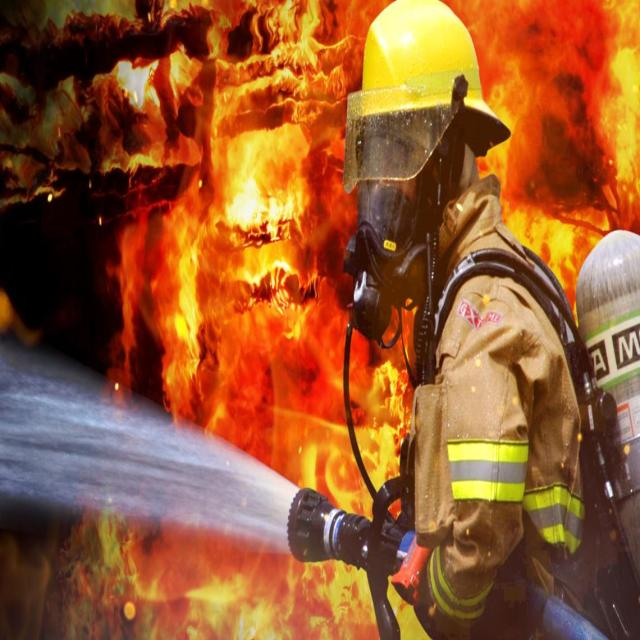Fire: (3, 9, 640, 632)
